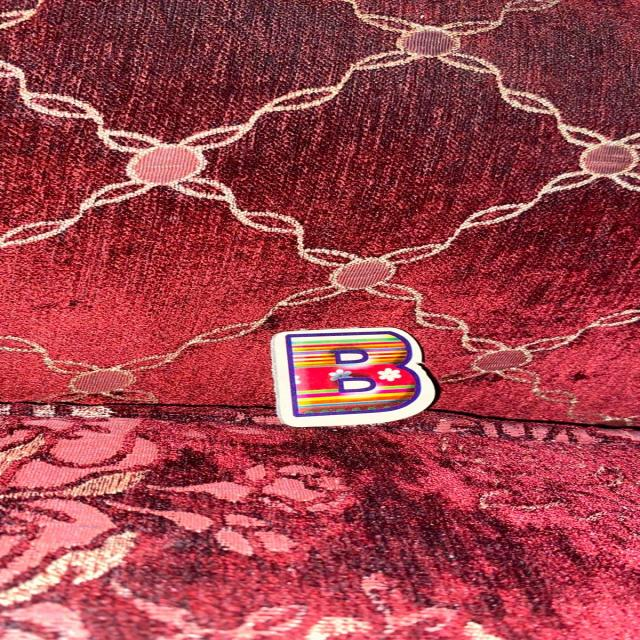B: (272, 327, 436, 427)
